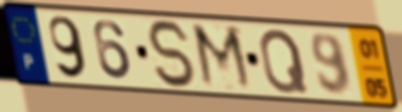6: (91, 19, 134, 83)
9: (309, 31, 353, 99), (47, 14, 88, 82)
M: (188, 21, 257, 94)
Q: (257, 27, 311, 96)
S: (144, 17, 201, 91)
